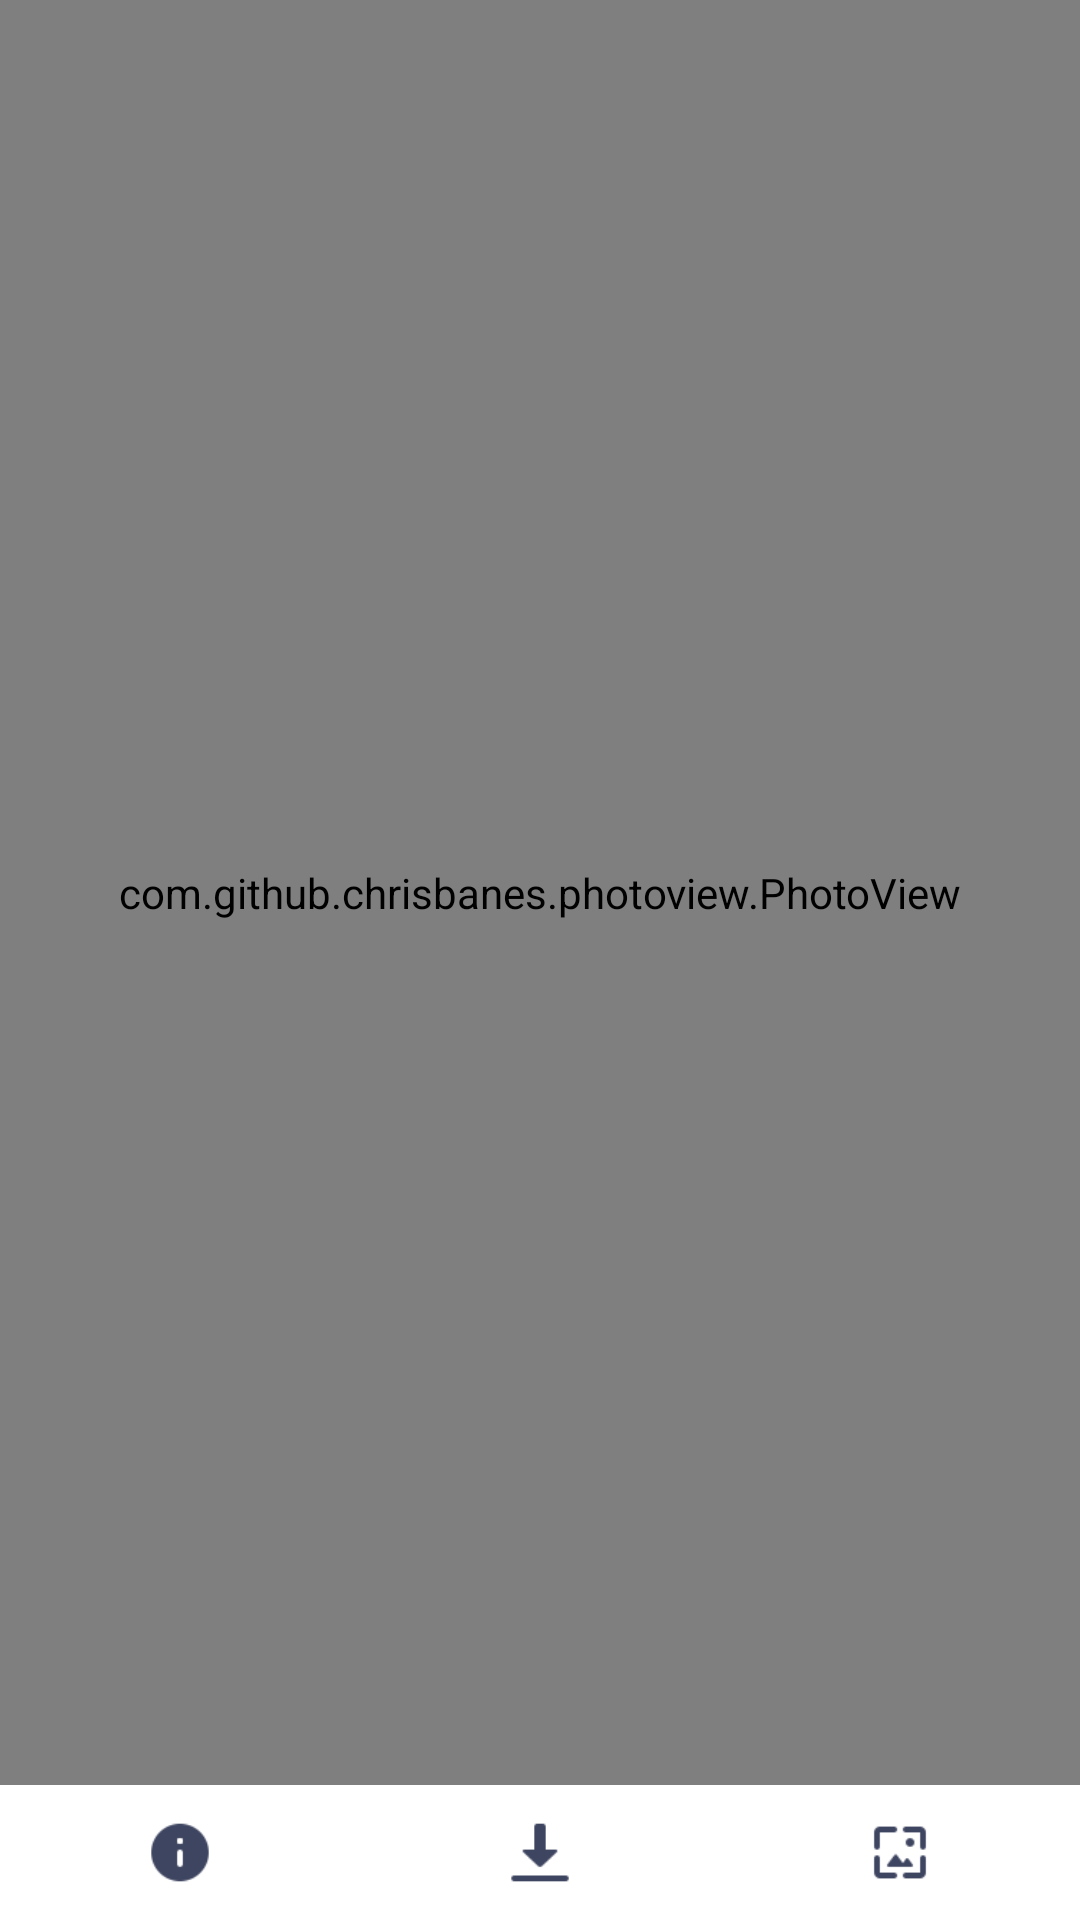

Where to tap for icons on this 1080*1920 app screen, as (x=x, y=y):
download: (x=540, y=1852)
info: (x=180, y=1852)
